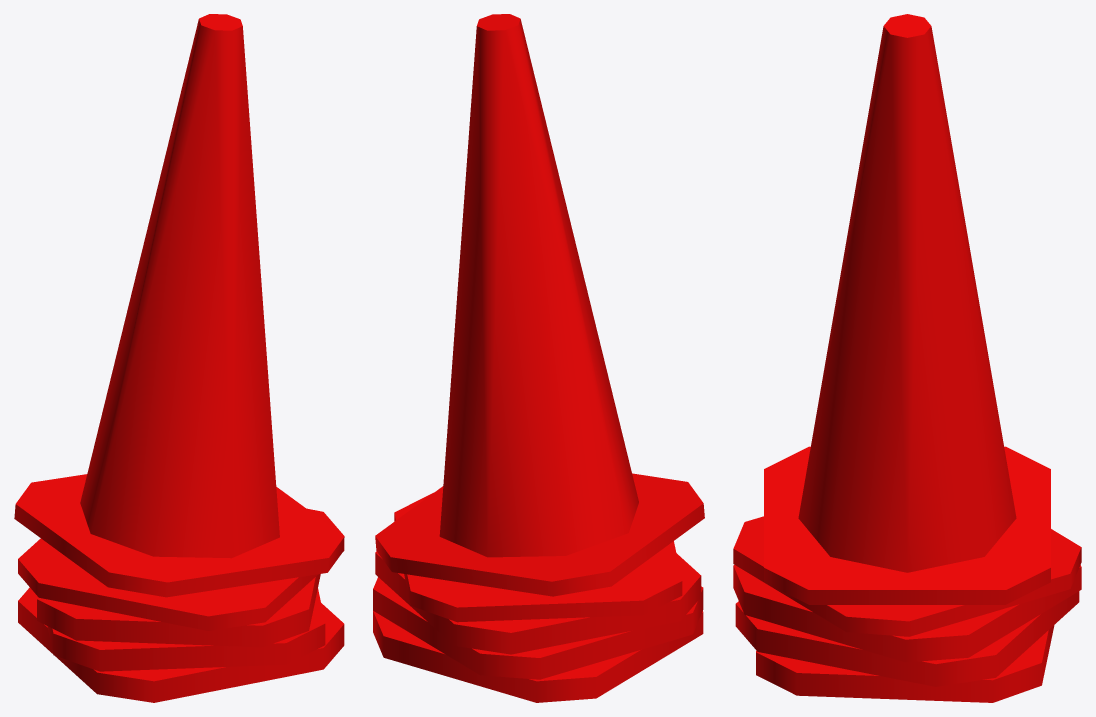
Rendered from Prop_TrafficSafetyCone_Stack_01.FBX.
3 renders of one model, left to right at view 1: azimuth 30°, elevation 25°; view 2: azimuth 150°, elevation 25°; view 3: azimuth 270°, elevation 25°, orthographic. The views are drawn at different scales.
Visible parts, largest first — view 1: Prop_TrafficSafetyCone_Stack_002; view 2: Prop_TrafficSafetyCone_Stack_002; view 3: Prop_TrafficSafetyCone_Stack_002.
Part boxes in pixels (bbox=[...]): Prop_TrafficSafetyCone_Stack_002: bbox=[14, 14, 344, 702]; Prop_TrafficSafetyCone_Stack_002: bbox=[373, 14, 704, 702]; Prop_TrafficSafetyCone_Stack_002: bbox=[733, 14, 1081, 702].
Bounding box in the file's own units: 30.63 × 61.67 × 30.63.
